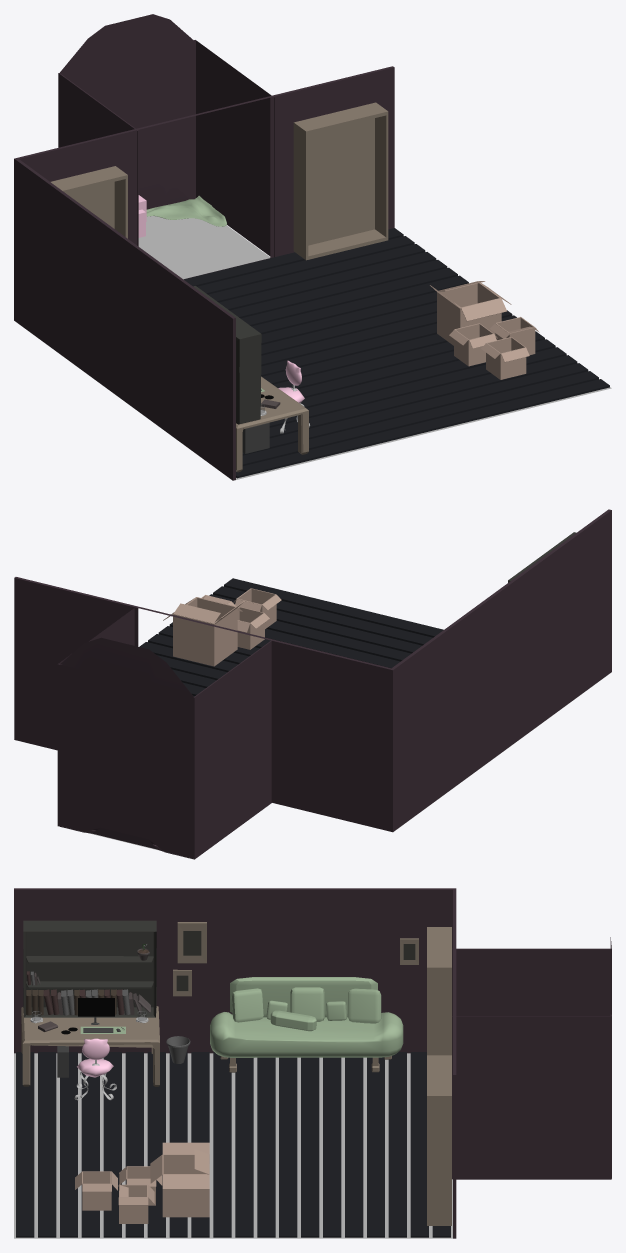
Rendered from The Bedroom.fbx.
3 views of the same model, one above another, from view 1: azimuth 30°, elevation 25°; view 2: azimuth 150°, elevation 25°; view 3: azimuth 270°, elevation 25° (orthographic).
Parts seen in each view (by area): view 1: WallA, WallB_Alter, Shelf_Artifacts_Music, AlterFloor, WoodFloor19, WoodFloor18, WoodFloor20, WoodFloor17, Shelf_Artifacts_Music1, CardboardBox1, Shelf, WoodFloor16 (+22 smaller); view 2: WallA, WallB_Alter, CardboardBox1, WoodFloor19, WoodFloor18, WoodFloor20, WoodFloor17, WoodFloor16, CardboardBox3, CardboardBox2, WoodFloor11, WoodFloor12; view 3: WallA, WallB_Alter, Couch1, Floor1, Shelf, Shelf_Artifacts_Music, Table, CardboardBox1, WoodFloor18, WoodFloor3, WoodFloor9, WoodFloor5 (+25 smaller).
Boxes of the visible parts, x1,y1,x2,y2 form: WallA: [14, 66, 394, 480]; WallB_Alter: [58, 14, 274, 257]; Shelf_Artifacts_Music: [293, 102, 388, 260]; AlterFloor: [138, 216, 270, 279]; WoodFloor19: [236, 379, 609, 478]; WoodFloor18: [242, 371, 598, 465]; WoodFloor20: [242, 363, 588, 455]; WoodFloor17: [269, 355, 577, 438]; Shelf_Artifacts_Music1: [51, 166, 127, 238]; CardboardBox1: [430, 281, 511, 345]; Shelf: [193, 286, 261, 424]; WoodFloor16: [269, 347, 566, 427]; WallA: [14, 509, 611, 832]; WallB_Alter: [57, 608, 271, 859]; CardboardBox1: [163, 597, 244, 666]; WoodFloor19: [224, 578, 443, 637]; WoodFloor18: [213, 586, 432, 645]; WoodFloor20: [209, 594, 421, 653]; WoodFloor17: [266, 621, 410, 661]; WoodFloor16: [265, 628, 400, 668]; CardboardBox3: [237, 606, 269, 649]; CardboardBox2: [233, 588, 281, 628]; WoodFloor11: [157, 655, 226, 680]; WoodFloor12: [139, 642, 237, 672]; WallA: [14, 888, 456, 1238]; WallB_Alter: [452, 937, 611, 1179]; Couch1: [210, 977, 403, 1057]; Floor1: [14, 1053, 452, 1238]; Shelf: [23, 920, 156, 1017]; Shelf_Artifacts_Music: [427, 1055, 451, 1225]; Table: [21, 1006, 159, 1086]; CardboardBox1: [150, 1142, 209, 1217]; WoodFloor18: [38, 1052, 56, 1237]; WoodFloor3: [388, 1052, 406, 1237]; WoodFloor9: [257, 1057, 275, 1237]; WoodFloor5: [345, 1057, 363, 1237].
Bounding box in the file's own units: 24.2 × 12.11 × 32.72.
